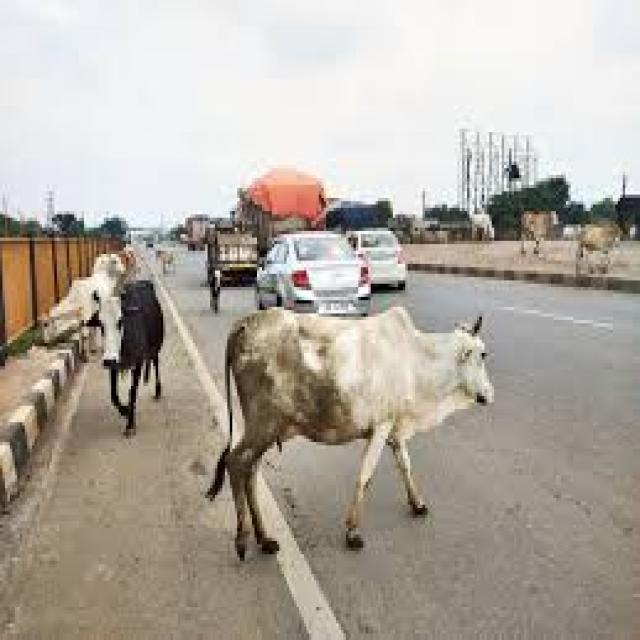car ahead at: (254, 235, 371, 313)
cattle ahead at: (220, 304, 500, 561), (77, 276, 179, 446)
